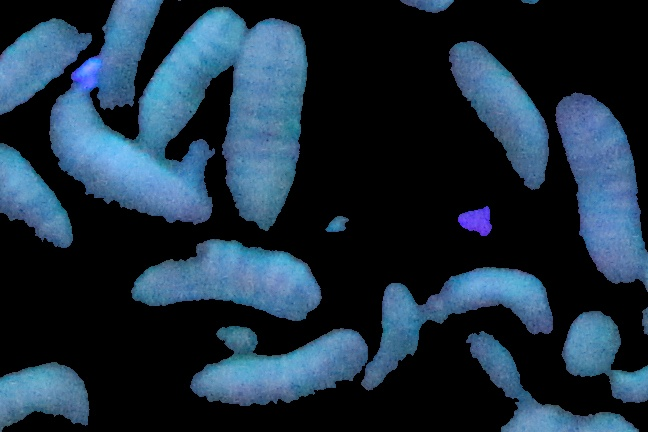larvae: (52, 86, 216, 222), (555, 92, 644, 291), (222, 19, 307, 227), (183, 327, 376, 416), (447, 38, 551, 186), (128, 240, 321, 318), (137, 8, 246, 143), (424, 261, 553, 341), (1, 18, 91, 111), (365, 281, 433, 402), (1, 141, 74, 248), (1, 361, 93, 432), (99, 1, 161, 106)
